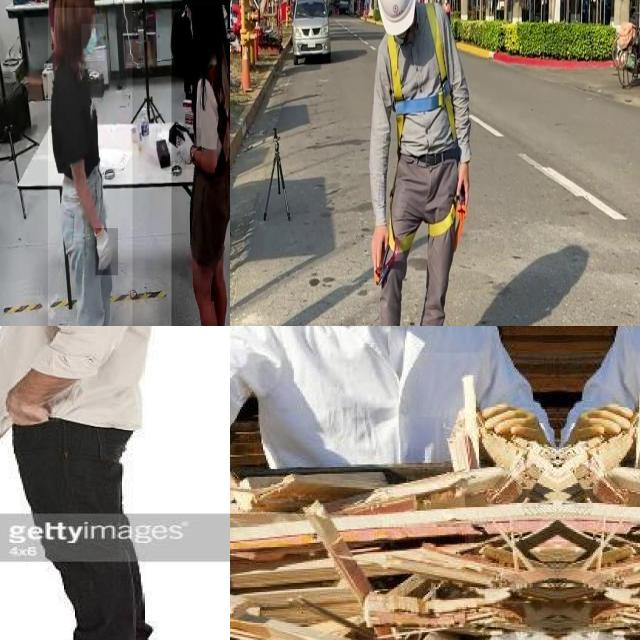Harness: (387, 3, 457, 144), (374, 196, 465, 287)
face_mask: (82, 24, 105, 61)
hand_glove: (565, 400, 640, 451), (473, 398, 550, 444), (174, 128, 202, 170), (95, 228, 118, 276)
head_nohelmet: (53, 0, 94, 8)
person: (230, 326, 534, 506), (0, 326, 156, 640), (48, 0, 133, 326), (171, 0, 230, 326)
